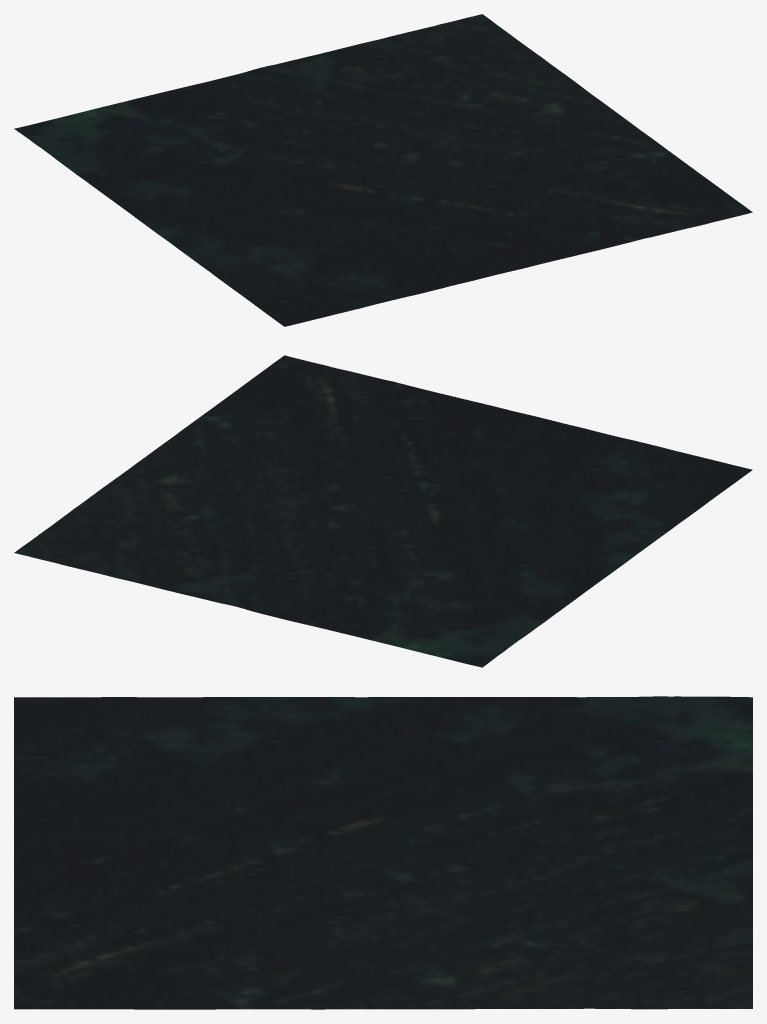
The picture shows the model from 3 angles, top to bottom: view 1: azimuth 30°, elevation 25°; view 2: azimuth 150°, elevation 25°; view 3: azimuth 270°, elevation 25°; orthographic projection. The views are drawn at different scales.
Bounding box in the file's own units: 104 × 0.3117 × 104.
Materials: 3 (3 with a texture image).
